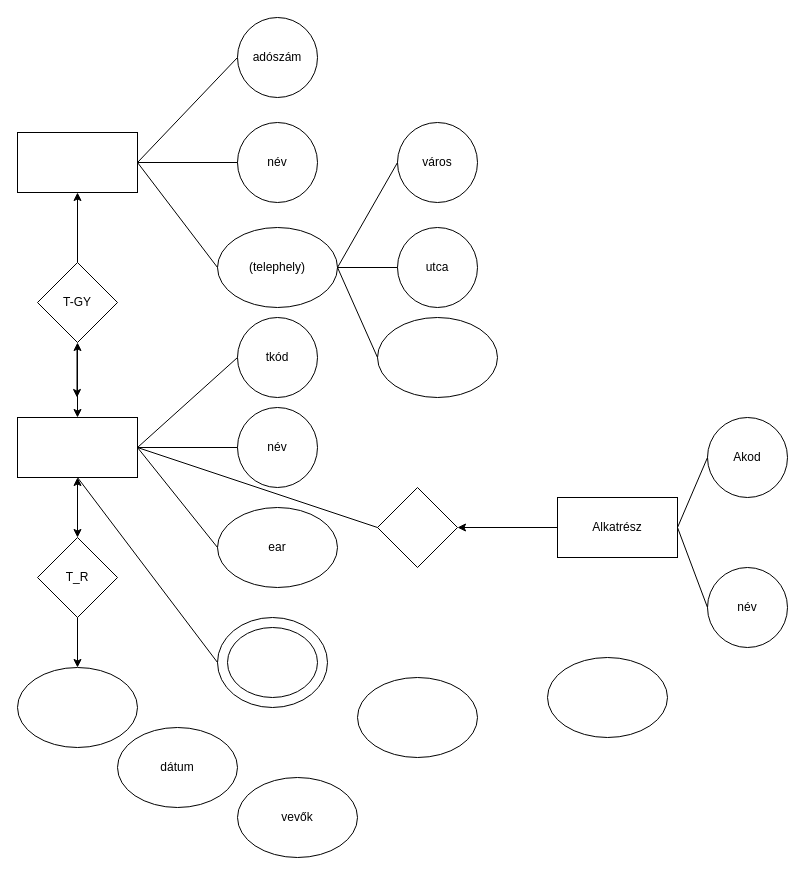
Some shapes in this 805 by 875 pixel diagram are drawn without their labels. The box of each missing label's shape, as (x1, y1, x2, y2) in pixels:
egységdb: (226, 626, 318, 698)
Gyártó: (16, 132, 138, 192)
lrsz: (376, 316, 498, 398)
Rendelések: (16, 666, 138, 748)
T-A: (376, 486, 458, 568)
Termék: (16, 416, 138, 478)
